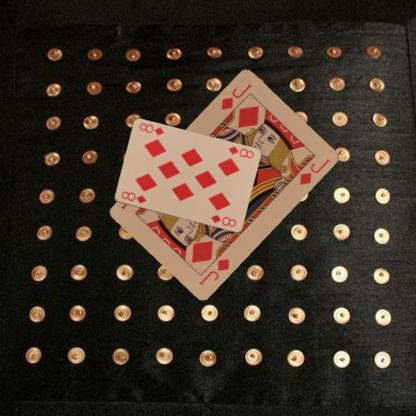8d: (118, 189, 147, 205), (225, 144, 254, 160)
Jd: (196, 255, 232, 286), (219, 80, 252, 111)
